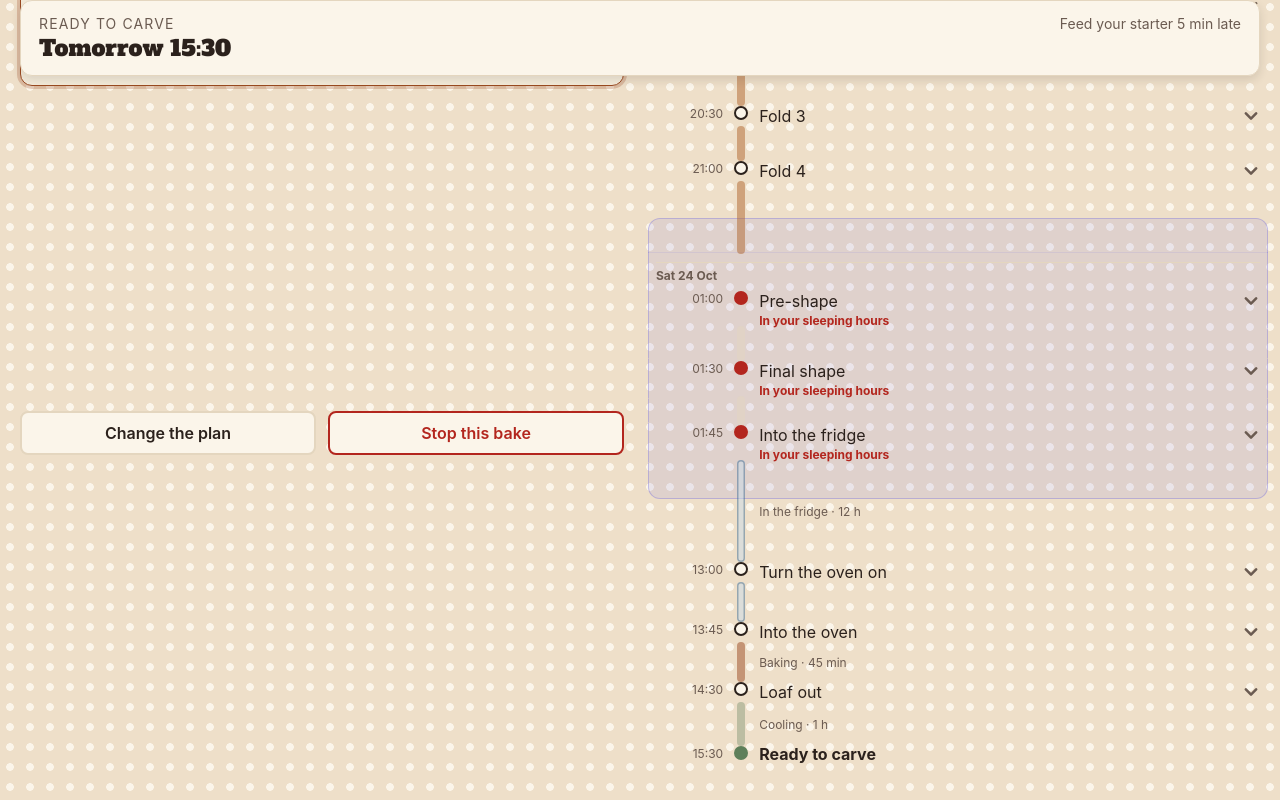
Test case: New bake: the progress on the vertical rail › keeps the Change the plan and Stop this bake buttons, and asks before stopping
(page scrolled)
Expected: the button "Change the plan" is shown, [20, 411, 316, 455]
Click the button "Stop this bake" at (476, 433), box [328, 411, 624, 455]
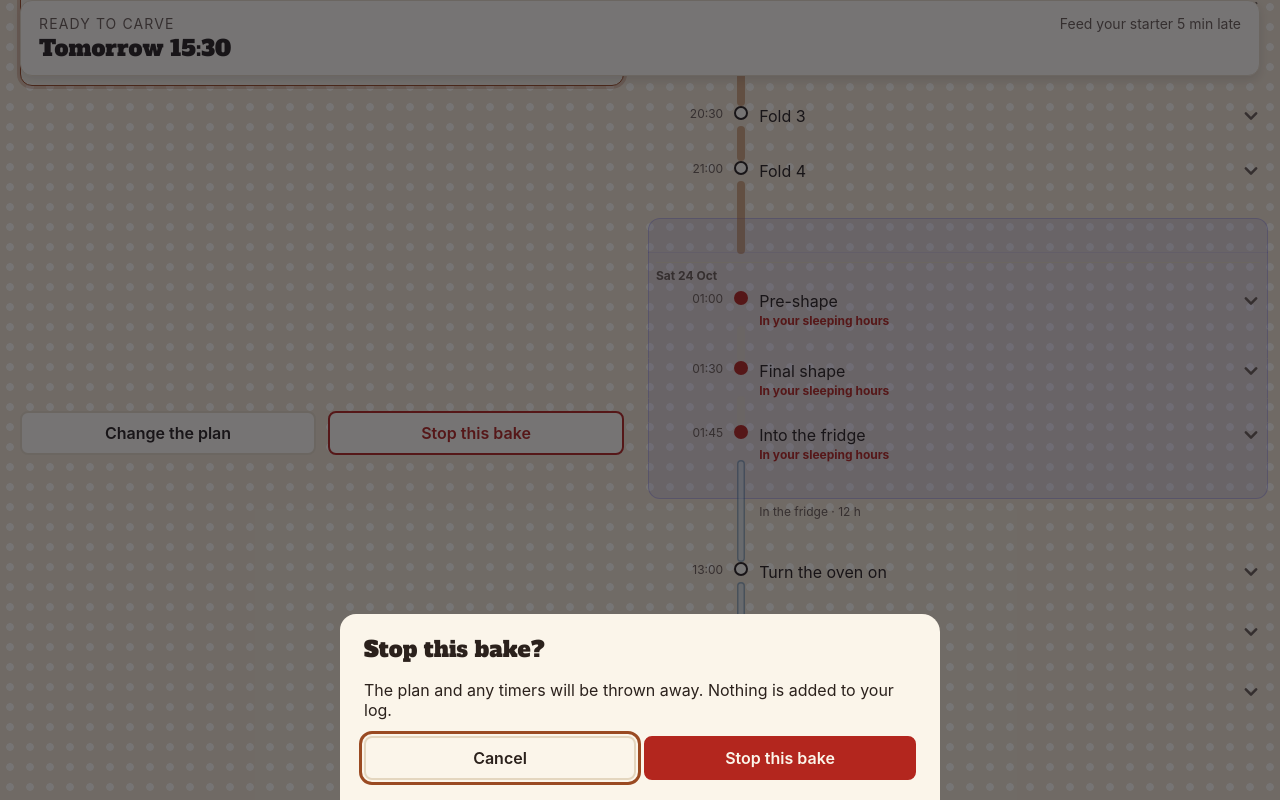
Expected: the heading "Stop this bake?" is shown, [364, 634, 544, 664]
